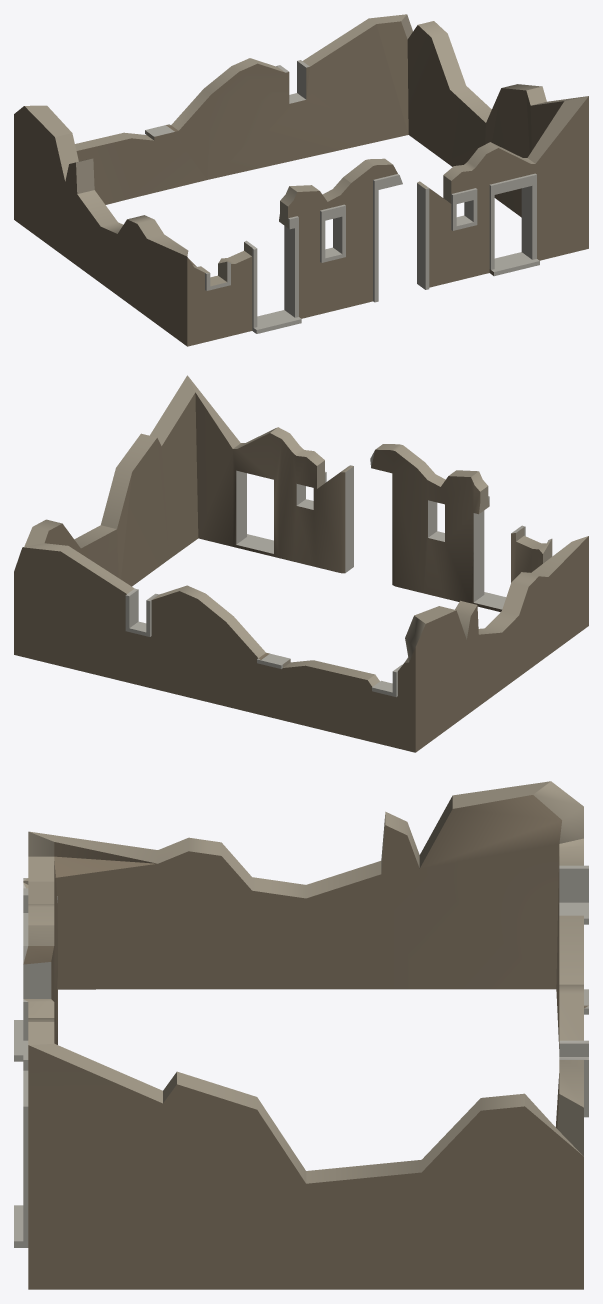
File: HouseDamaged.fbx
3 views of the same model, one above another, from view 1: azimuth 30°, elevation 25°; view 2: azimuth 150°, elevation 25°; view 3: azimuth 270°, elevation 25° (orthographic). The views are drawn at different scales.
Visible parts, largest first — view 1: Walls; view 2: Walls; view 3: Walls.
Part boxes in pixels (x1=…): Walls: x1=14, y1=14, x2=588, y2=346; Walls: x1=14, y1=375, x2=588, y2=752; Walls: x1=14, y1=781, x2=588, y2=1289.
Bounding box in the file's own units: 534 × 194 × 413.
